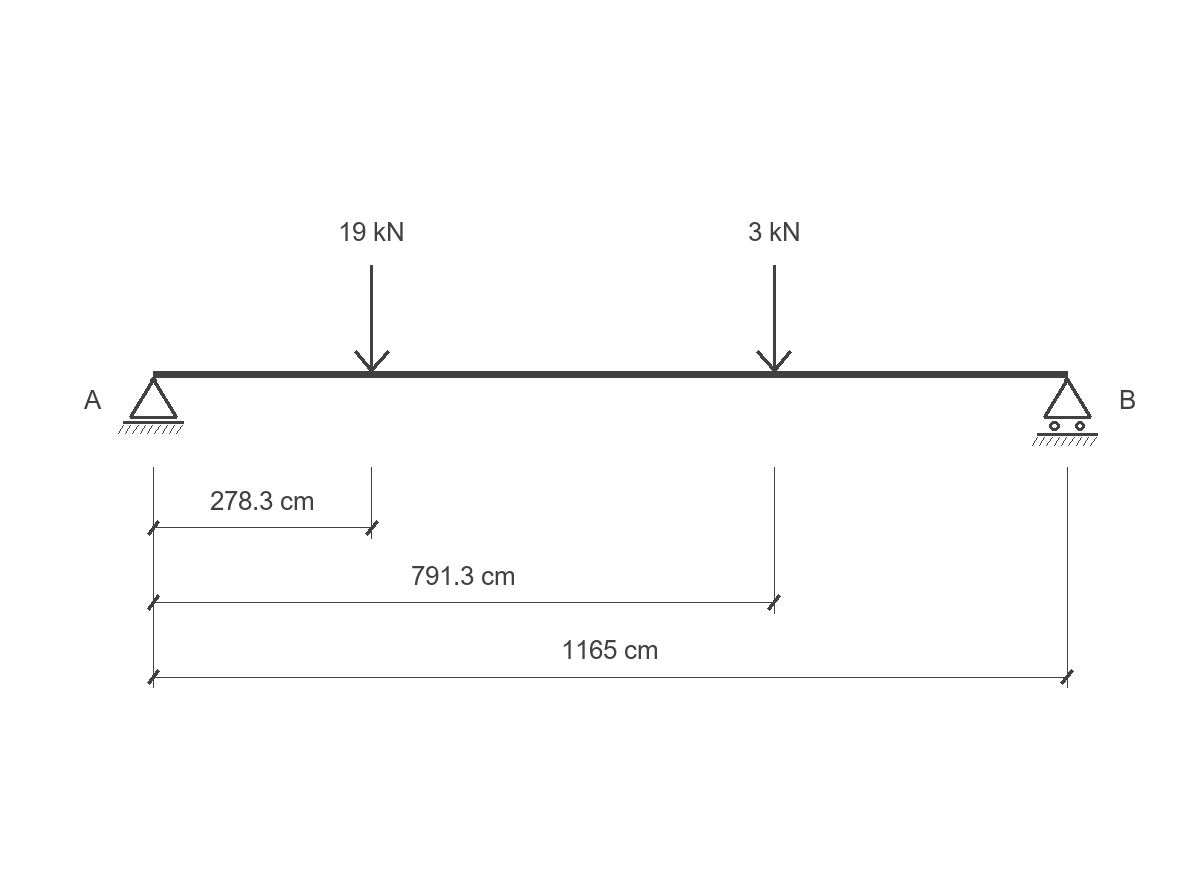pin_support: (118, 377, 184, 434)
point_load: (354, 265, 390, 372), (756, 265, 792, 372)
roller_support: (1032, 377, 1098, 446)
